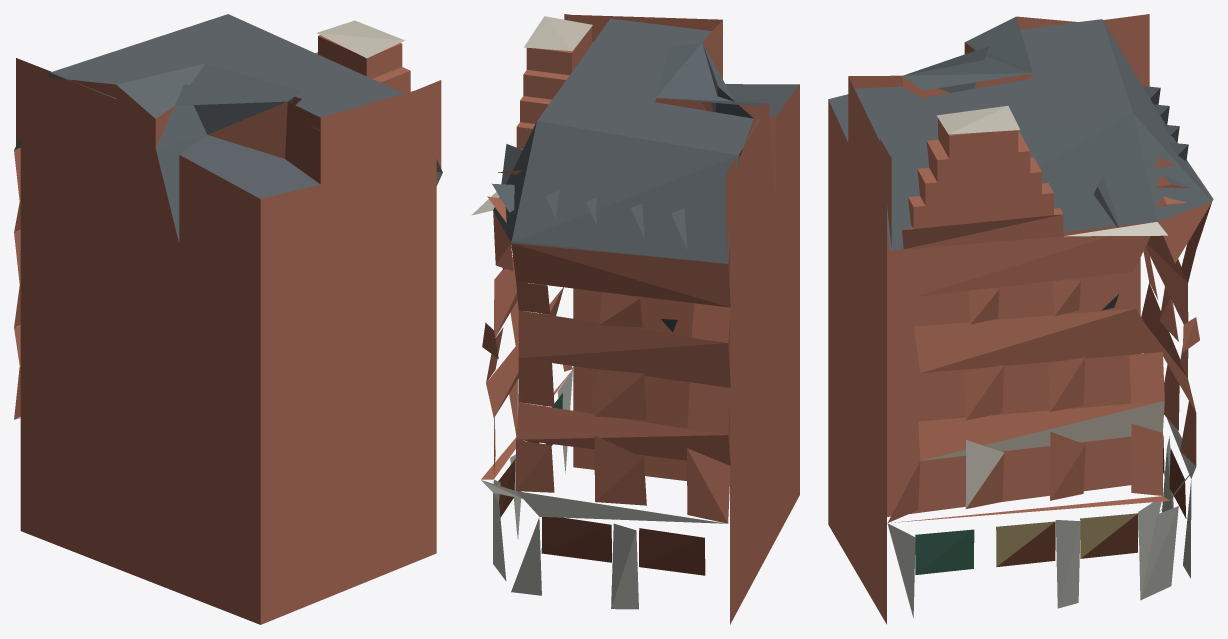
File: old-bell-rembrandtplein.lod2.glb
3 views of the same model, side by side, from view 1: azimuth 30°, elevation 25°; view 2: azimuth 150°, elevation 25°; view 3: azimuth 270°, elevation 25° (orthographic). The views are drawn at different scales.
Parts seen in each view (by area): view 1: lod2; view 2: lod2; view 3: lod2.
Boxes of the visible parts, box(x1,y1,x2,y2) form: lod2: box(14, 14, 442, 624); lod2: box(471, 14, 799, 624); lod2: box(828, 14, 1213, 624).
Bounding box in the file's own units: 14.11 × 22.12 × 15.76.
